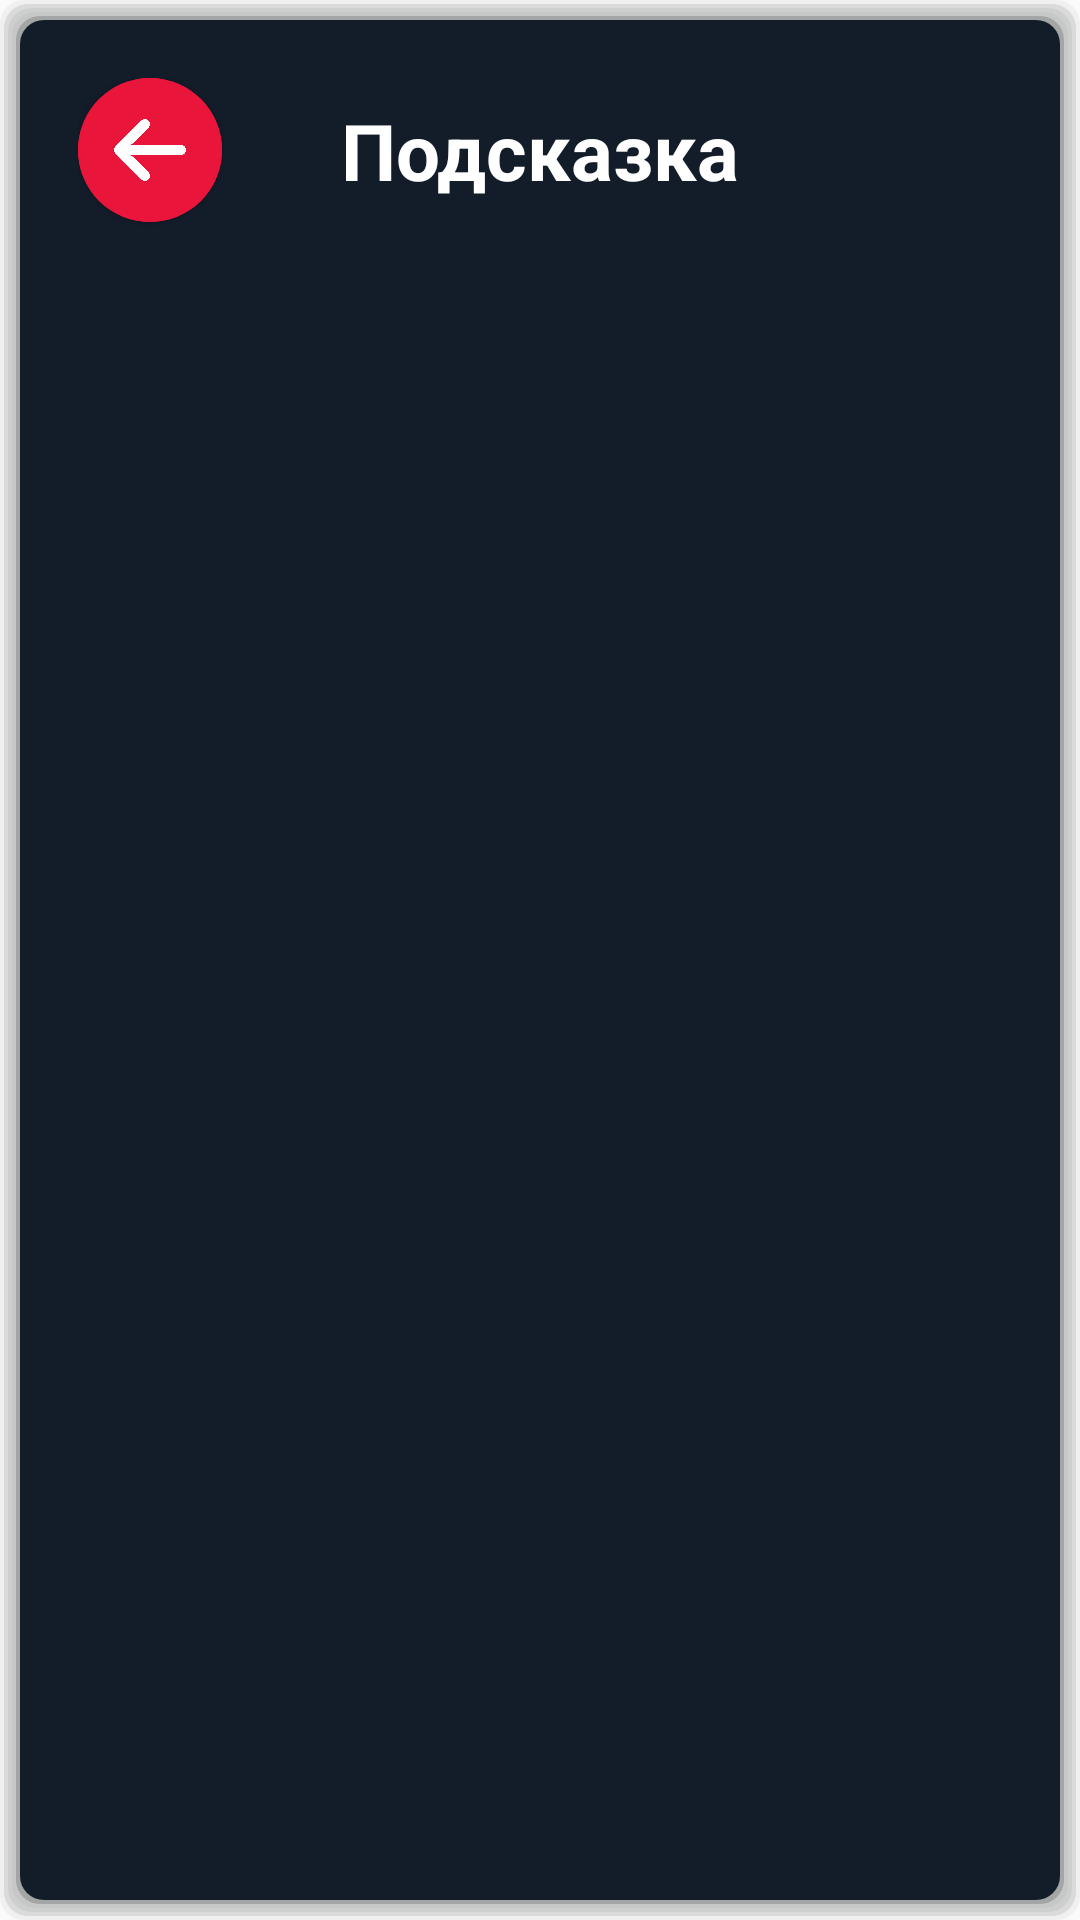

Icons on this 1080 x 1920 Android screen, each with the point to tap as point (x, y):
back: point (150, 150)
